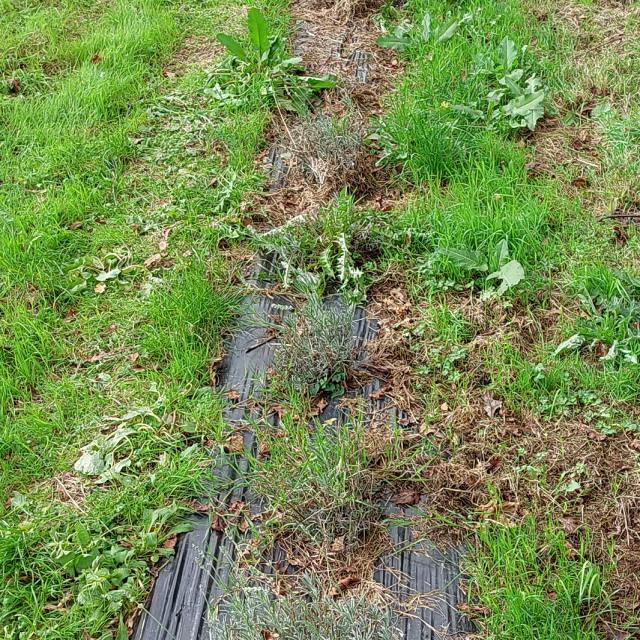organic waste: (198, 0, 350, 113), (70, 394, 226, 494), (377, 0, 493, 82), (458, 70, 572, 152), (51, 228, 147, 305), (452, 222, 525, 316), (560, 319, 640, 395), (460, 23, 544, 92)
